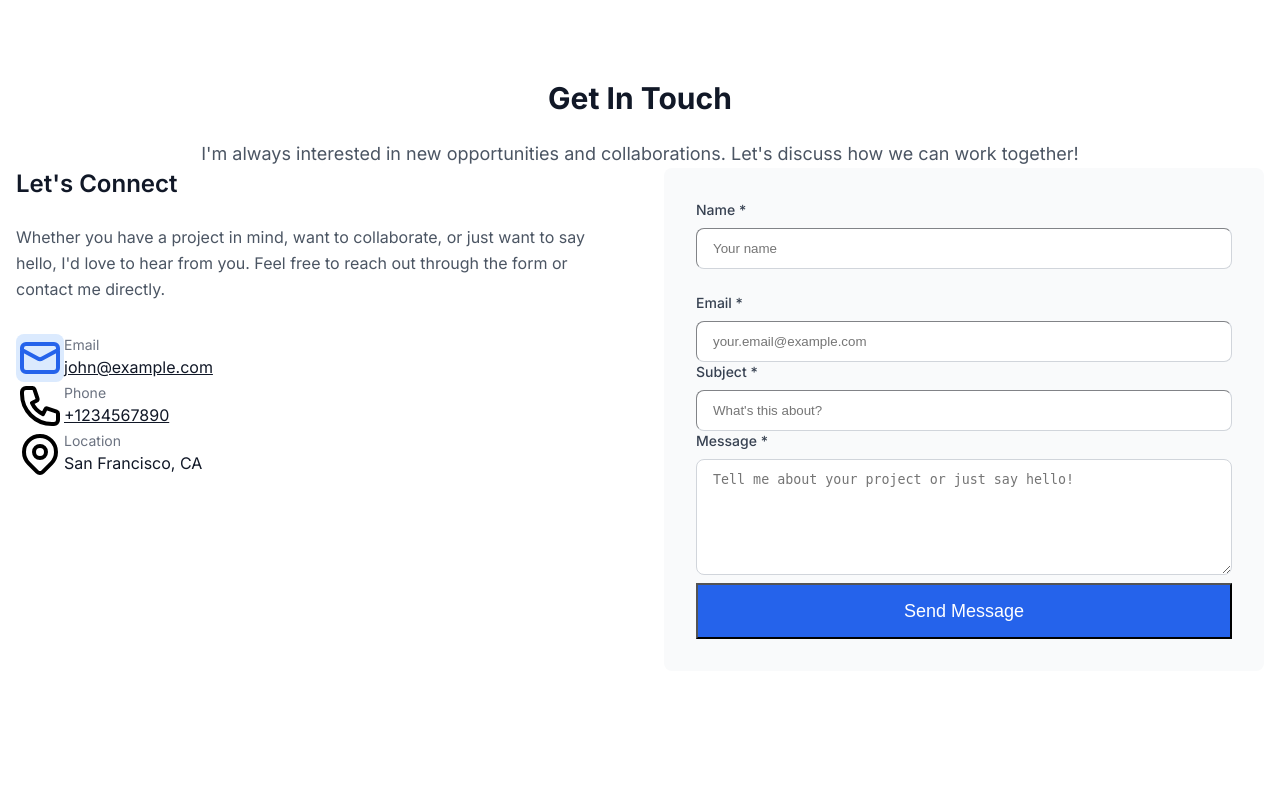
ContactSection Component › validates form inputs
Click the button with test id "contact-submit" at (964, 611), box [696, 583, 1232, 639]
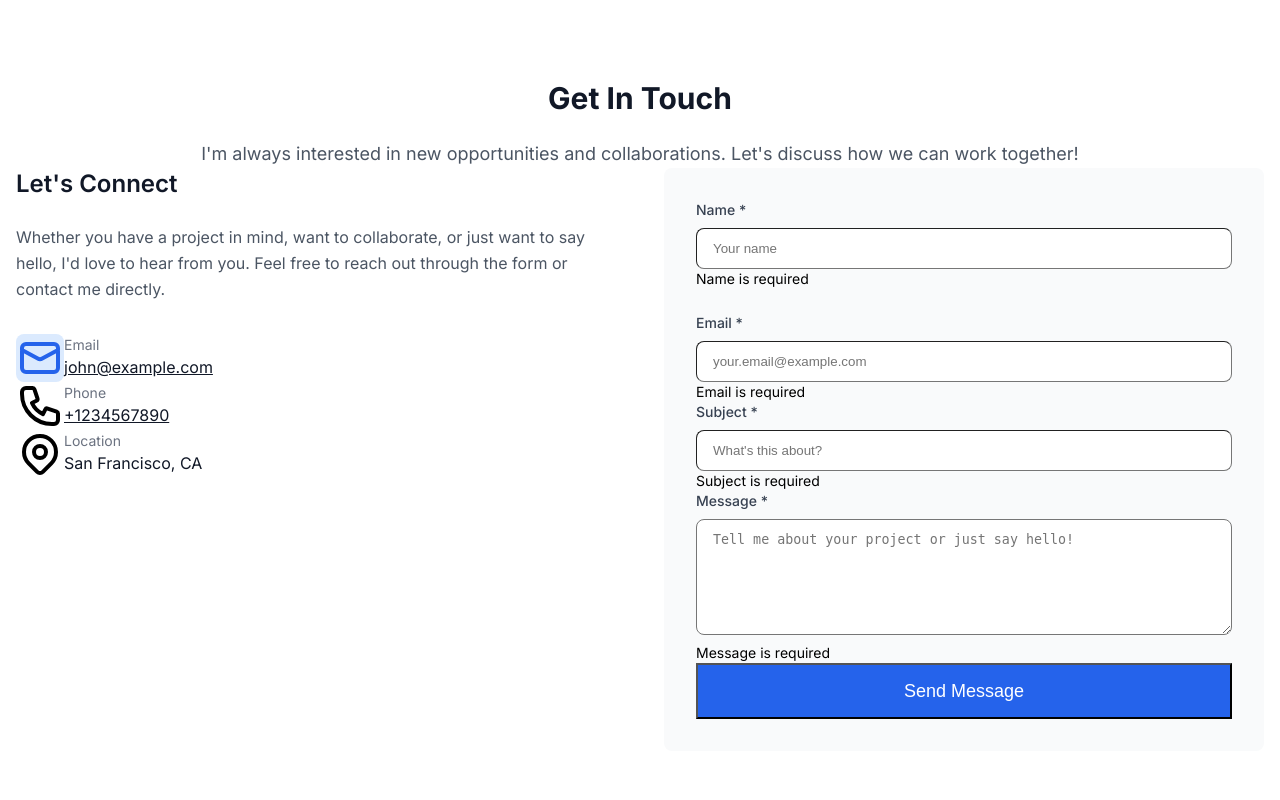
Expected: the text "Name is required" is shown, [696, 270, 809, 287]
Expected: the text "Email is required" is shown, [696, 383, 805, 400]
Expected: the text "Subject is required" is shown, [696, 472, 820, 489]
